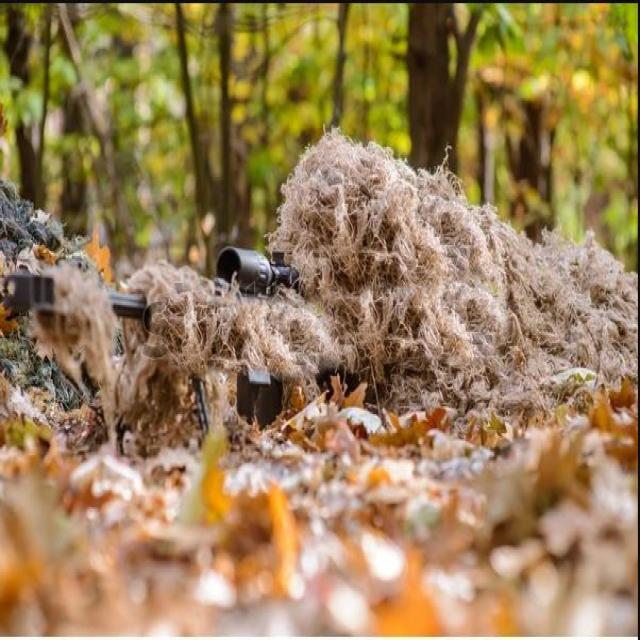human: (37, 142, 636, 428)
